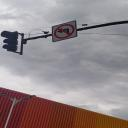NoVirarEsquerda: (46, 18, 82, 44)
